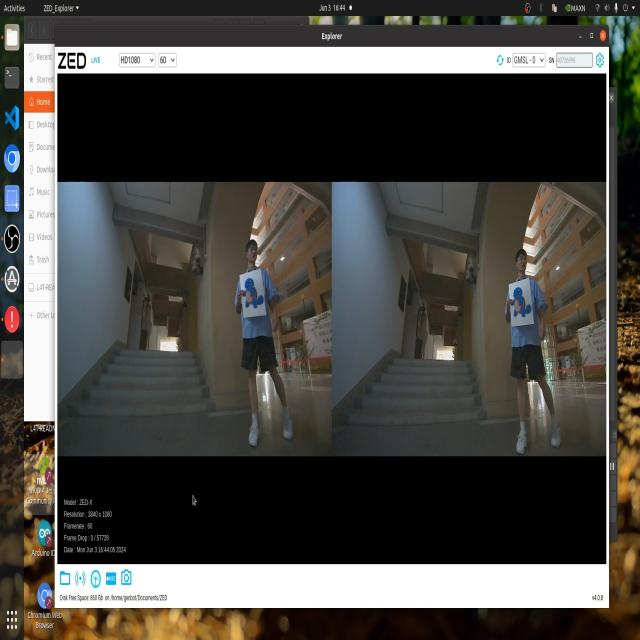blue: (506, 282, 547, 330), (236, 282, 264, 318)
